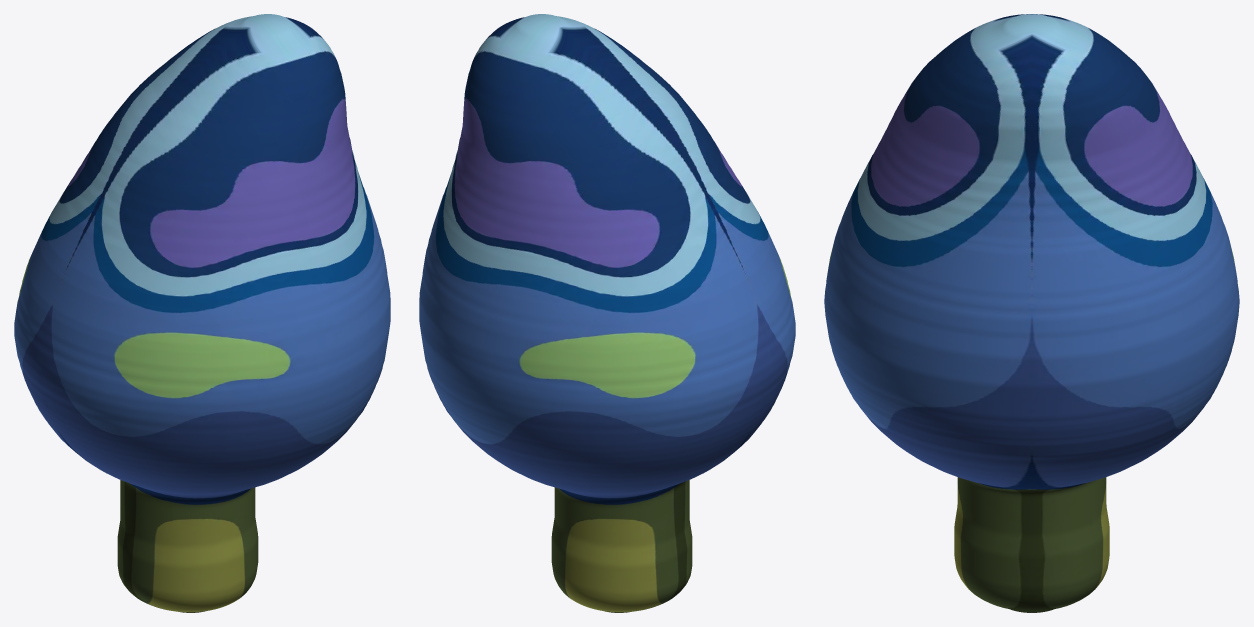
Rendered from indigo_bud.glb.
The picture shows the model from 3 angles, left to right: view 1: azimuth 30°, elevation 25°; view 2: azimuth 150°, elevation 25°; view 3: azimuth 270°, elevation 25°; orthographic projection. The views are drawn at different scales.
Parts seen in each view (by area): view 1: indigo_bud; view 2: indigo_bud; view 3: indigo_bud.
Part boxes in pixels (box(x1,y1,x2,y2)): indigo_bud: box(14, 14, 390, 612); indigo_bud: box(419, 14, 795, 612); indigo_bud: box(824, 14, 1239, 612).
Size of the model in its own units: 1 by 1.64 by 0.9979.
1 material, 1 textured.
